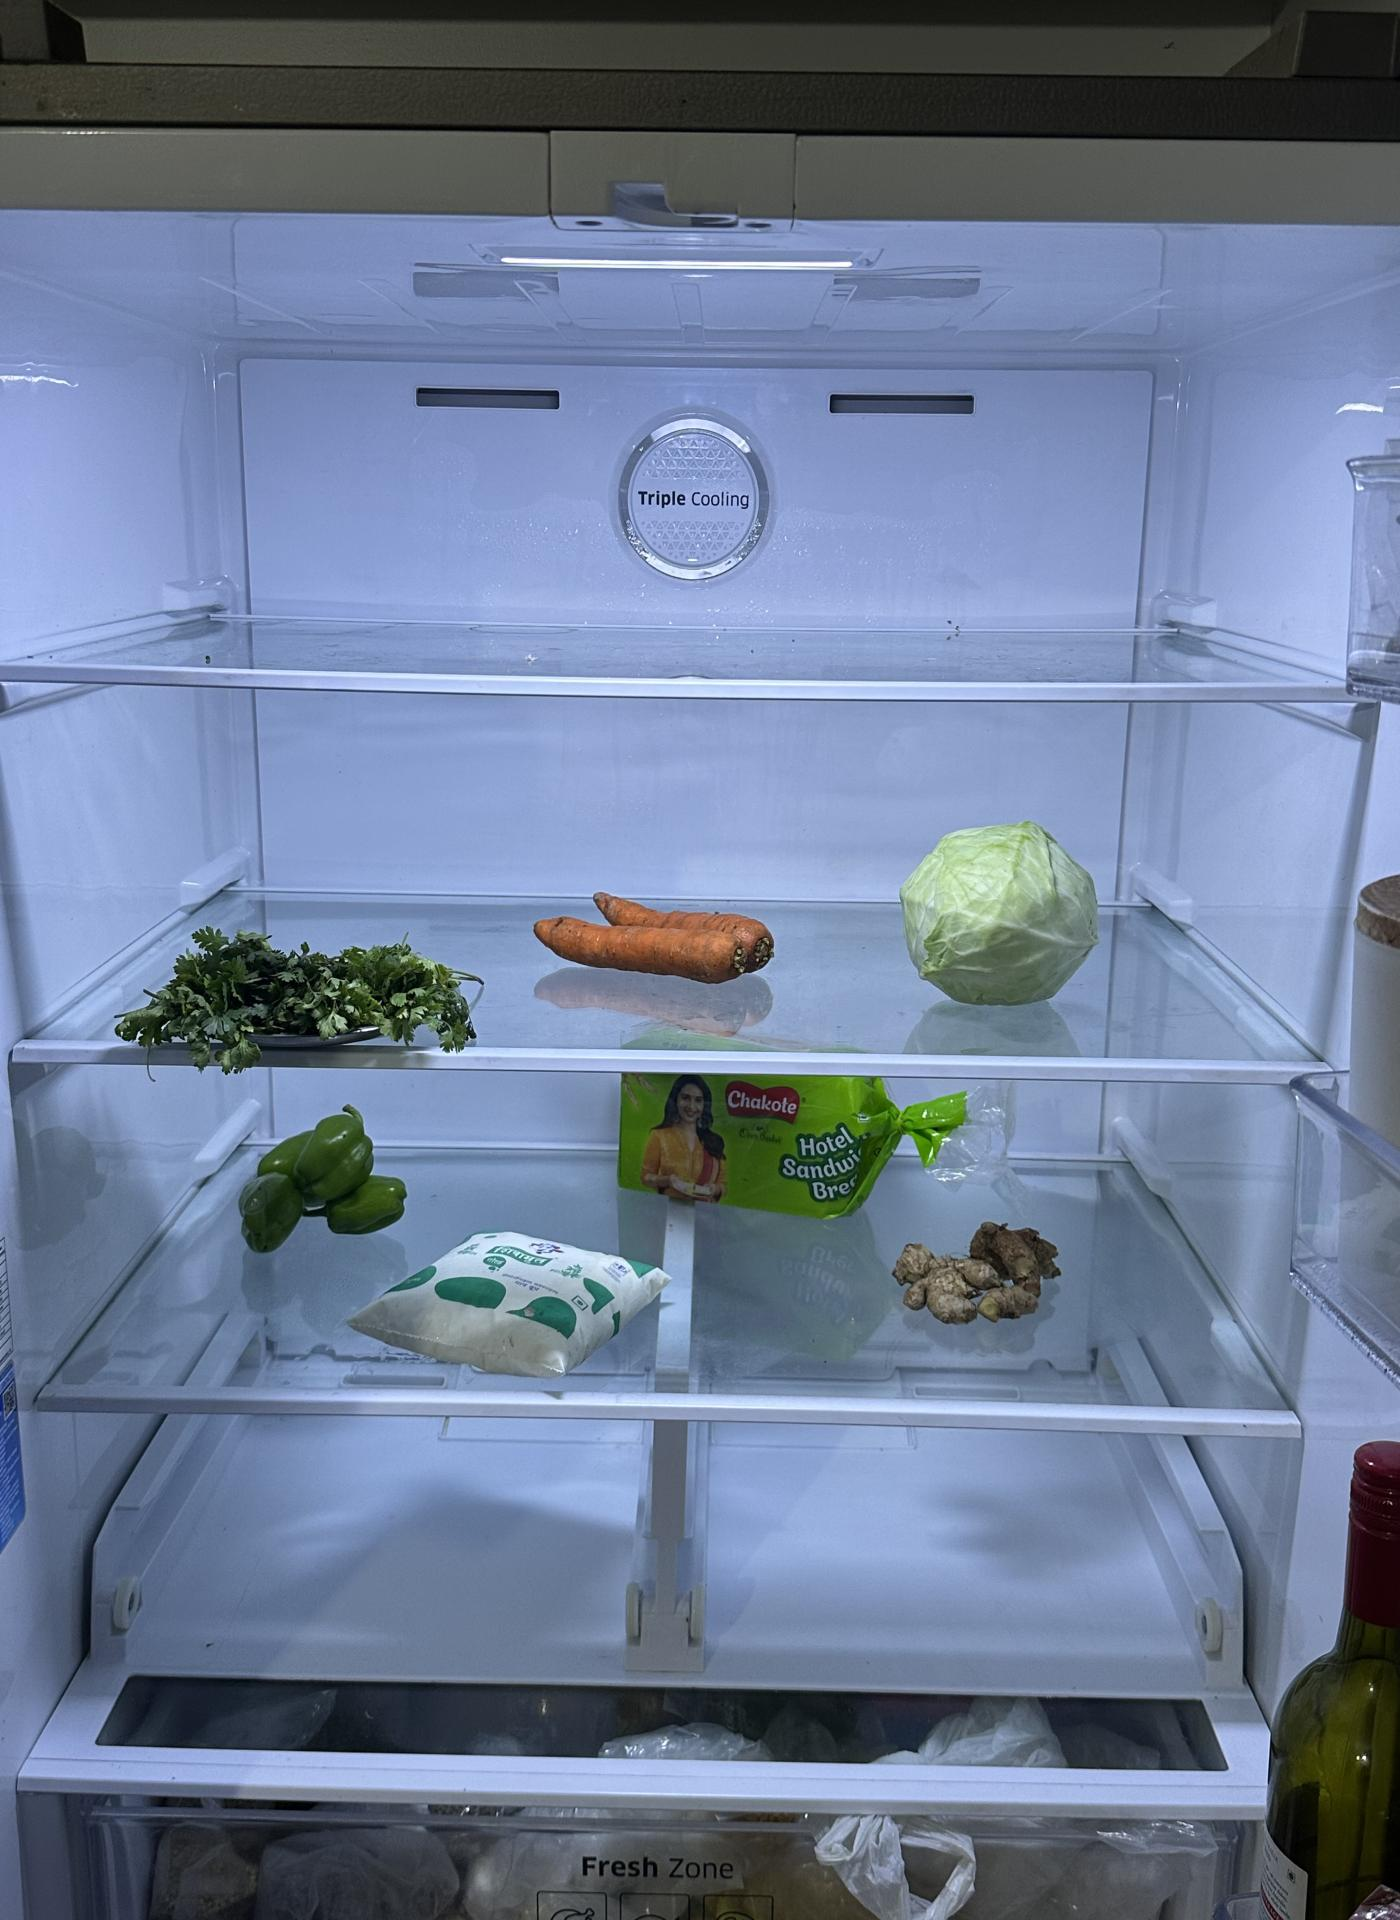bread: (620, 1067, 921, 1227)
cabbage: (896, 808, 1103, 1009)
capsicum: (239, 1108, 410, 1261)
carrots: (528, 885, 781, 982)
coriander: (112, 926, 480, 1064)
ginger: (893, 1207, 1065, 1336)
milk: (338, 1222, 659, 1371)
